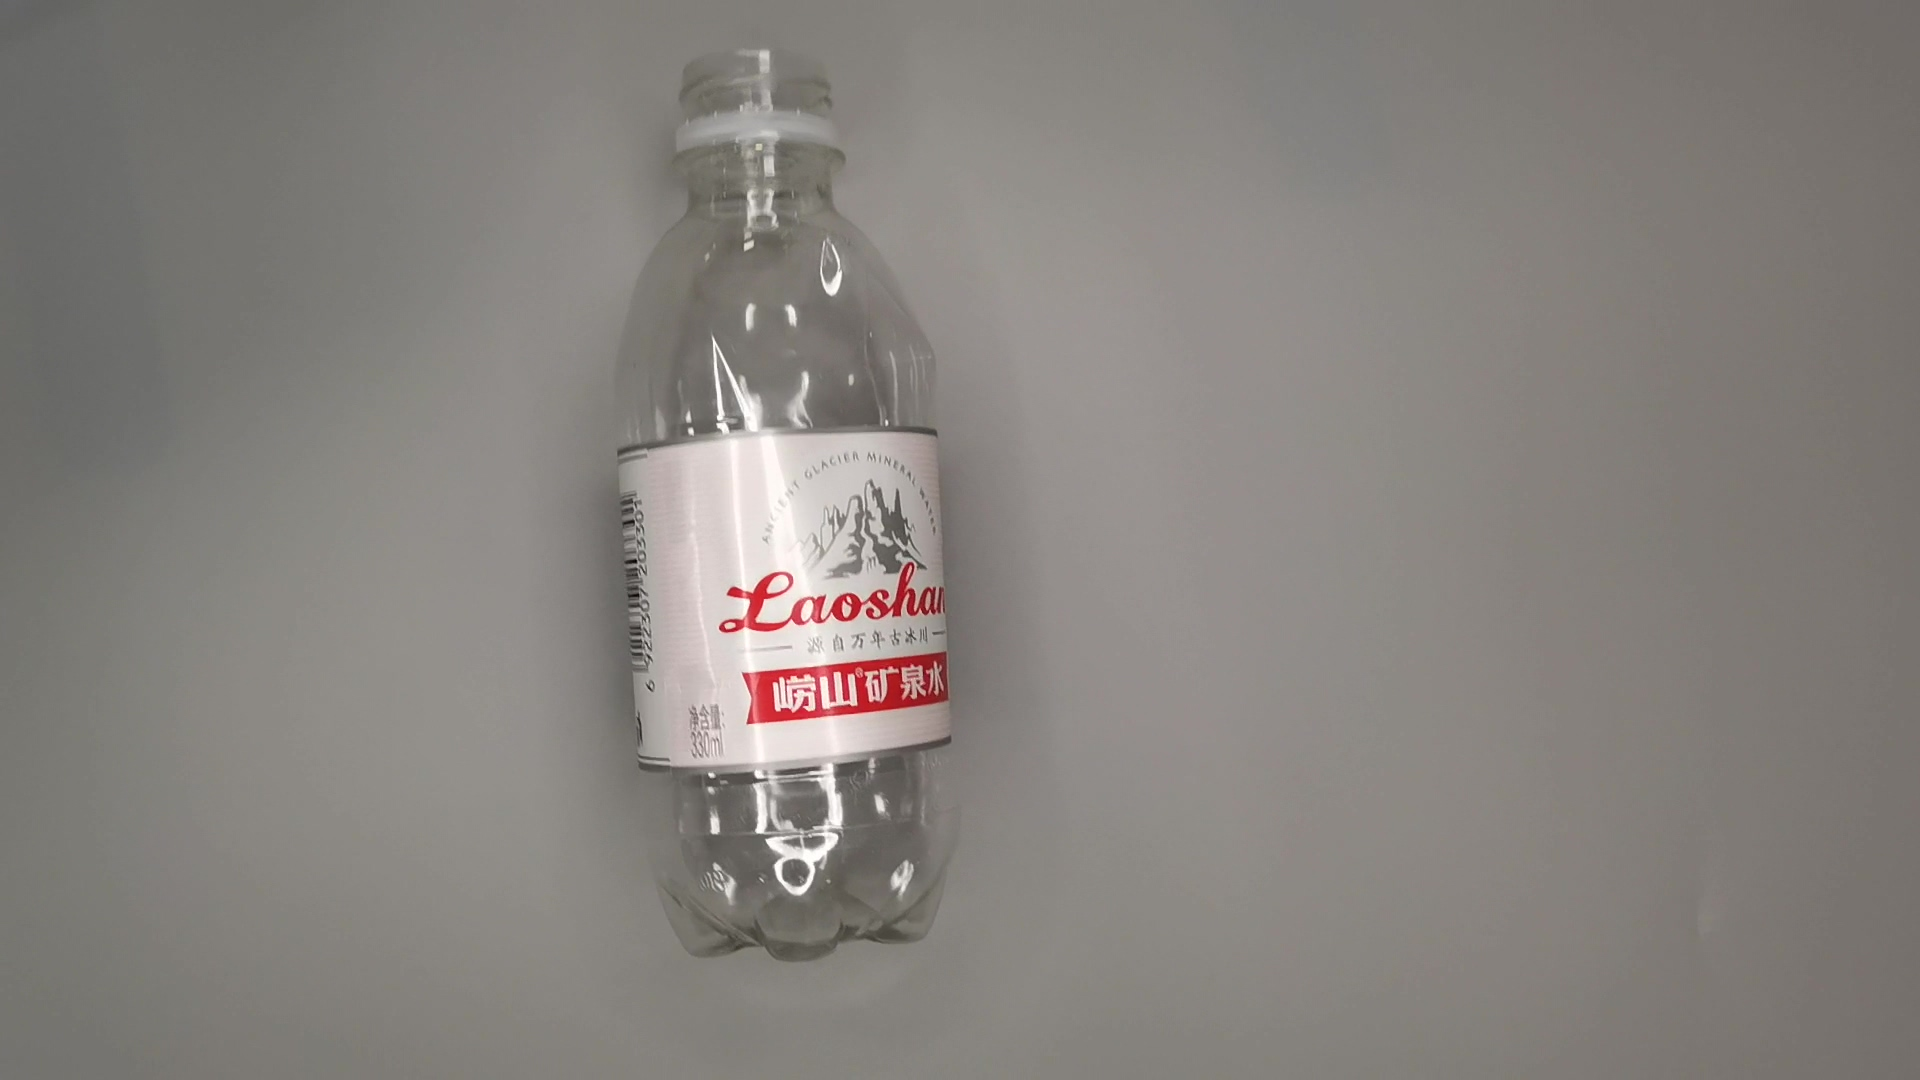bottle: (597, 42, 975, 975)
